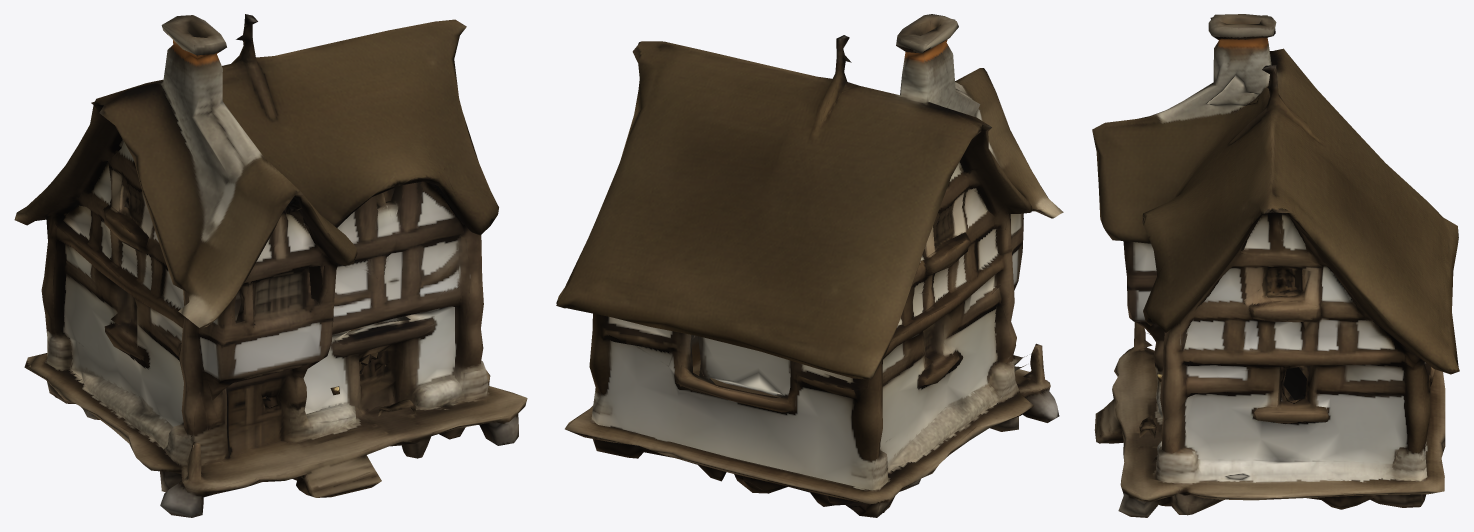
Rendered from house2.glb.
The picture shows the model from 3 angles, left to right: view 1: azimuth 30°, elevation 25°; view 2: azimuth 150°, elevation 25°; view 3: azimuth 270°, elevation 25°; orthographic projection. The views are drawn at different scales.
Parts seen in each view (by area): view 1: geometry_0; view 2: geometry_0; view 3: geometry_0.
Part boxes in pixels (box(x1,y1,x2,y2)): geometry_0: box(14, 14, 527, 517); geometry_0: box(556, 14, 1063, 517); geometry_0: box(1092, 14, 1459, 517).
Bounding box in the file's own units: 0.9053 × 1 × 0.8715.
1 material, 1 textured.
